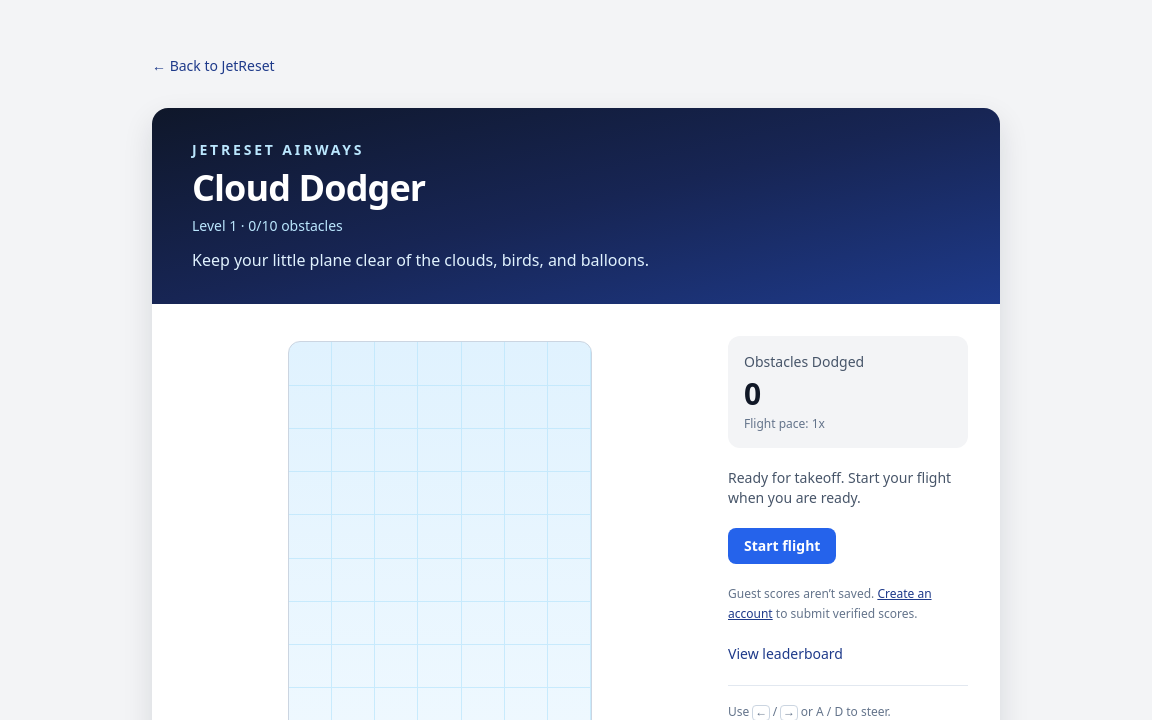
Test: PlaneGame › starts a flight and supports keyboard and touch steering
The image size is (1152, 720).
Expected: the message shows "Ready for takeoff", [728,468,951,507]
Step 1. Click the button "Start flight" → {"x": 782, "y": 546}, box [728,528,836,564]
(page scrolled)
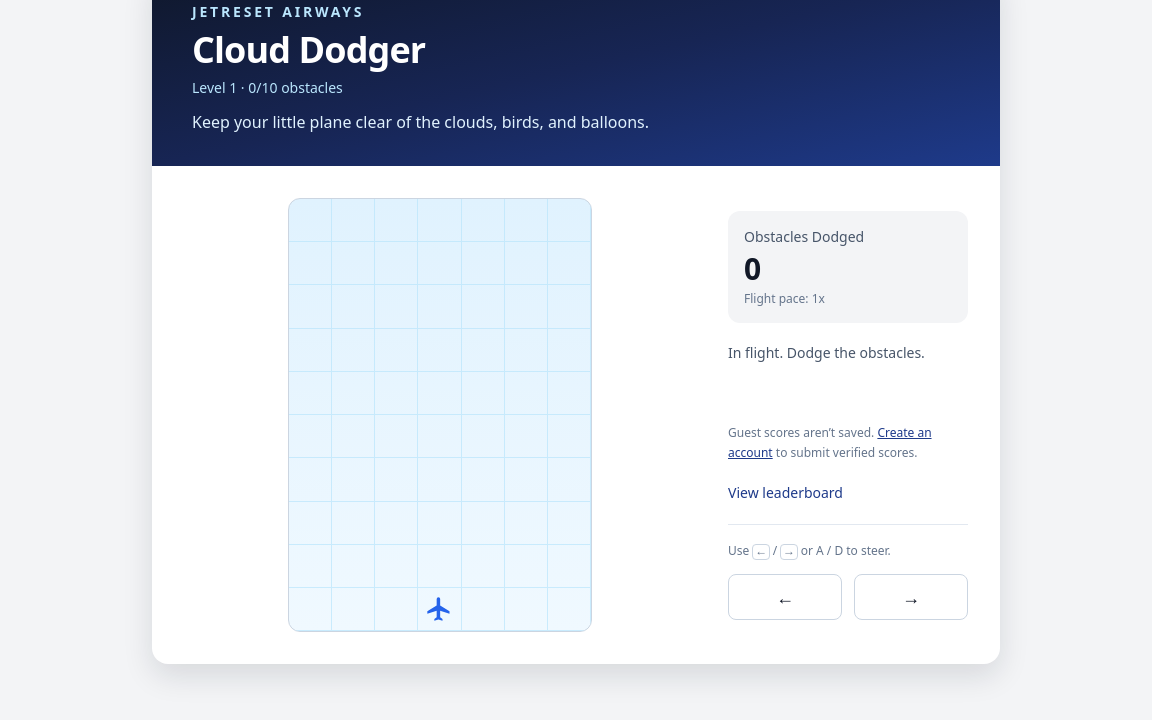
Expected: the picture named "Plane in lane 4 of 7" is shown, [288,198,592,632]
Result: the message shows "In flight" at [728,343,925,362]
Step 2. Press ArrowLeft
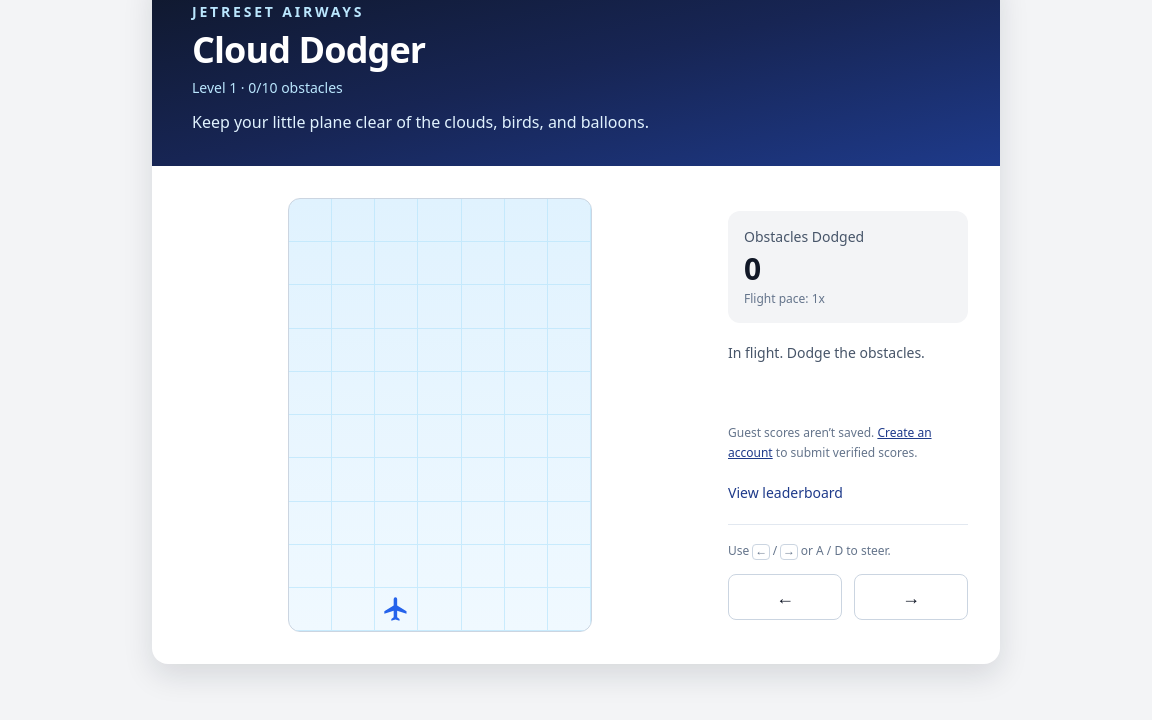
Result: the picture named "Plane in lane 3 of 7" is shown at [288,198,592,632]
Step 3. Click the button named "Steer right" → {"x": 911, "y": 597}, box [854,574,968,620]
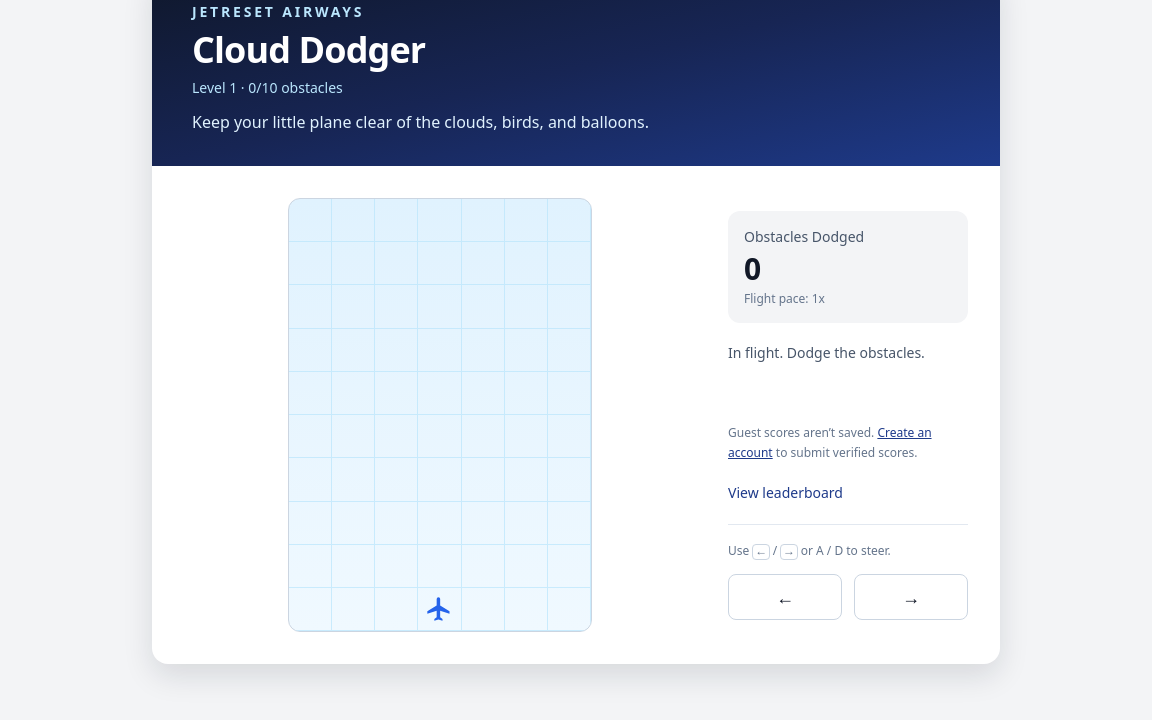
Result: the picture named "Plane in lane 4 of 7" is shown at [288,198,592,632]
